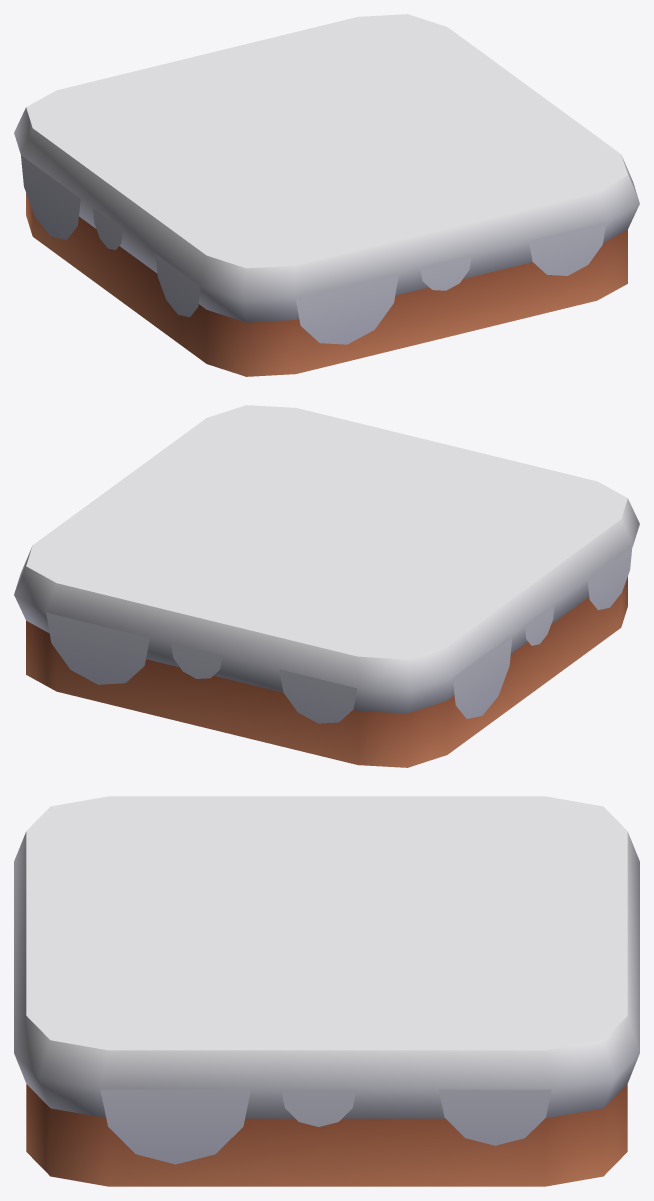
File: block-snow-overhang-low-large.glb
3 views of the same model, one above another, from view 1: azimuth 30°, elevation 25°; view 2: azimuth 150°, elevation 25°; view 3: azimuth 270°, elevation 25° (orthographic). The views are drawn at different scales.
Visible parts, largest first — view 1: block-snow-overhang-low-large; view 2: block-snow-overhang-low-large; view 3: block-snow-overhang-low-large.
Part boxes in pixels (x1,y1,x2,y2): block-snow-overhang-low-large: [14, 14, 639, 376]; block-snow-overhang-low-large: [14, 405, 639, 767]; block-snow-overhang-low-large: [14, 796, 639, 1186].
Bounding box in the file's own units: 2.08 × 0.5 × 2.08.
Materials: 1 (1 with a texture image).
